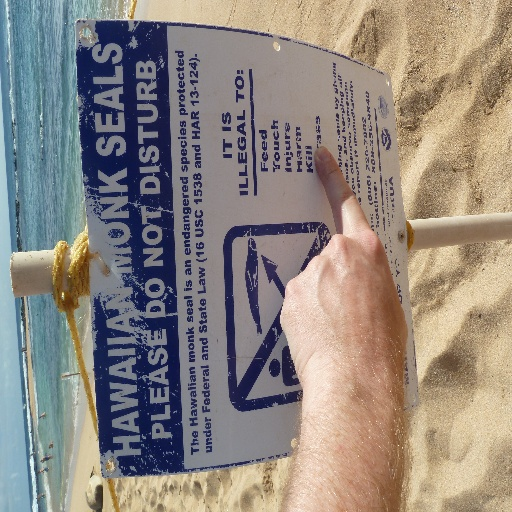hand: (283, 147, 419, 491)
